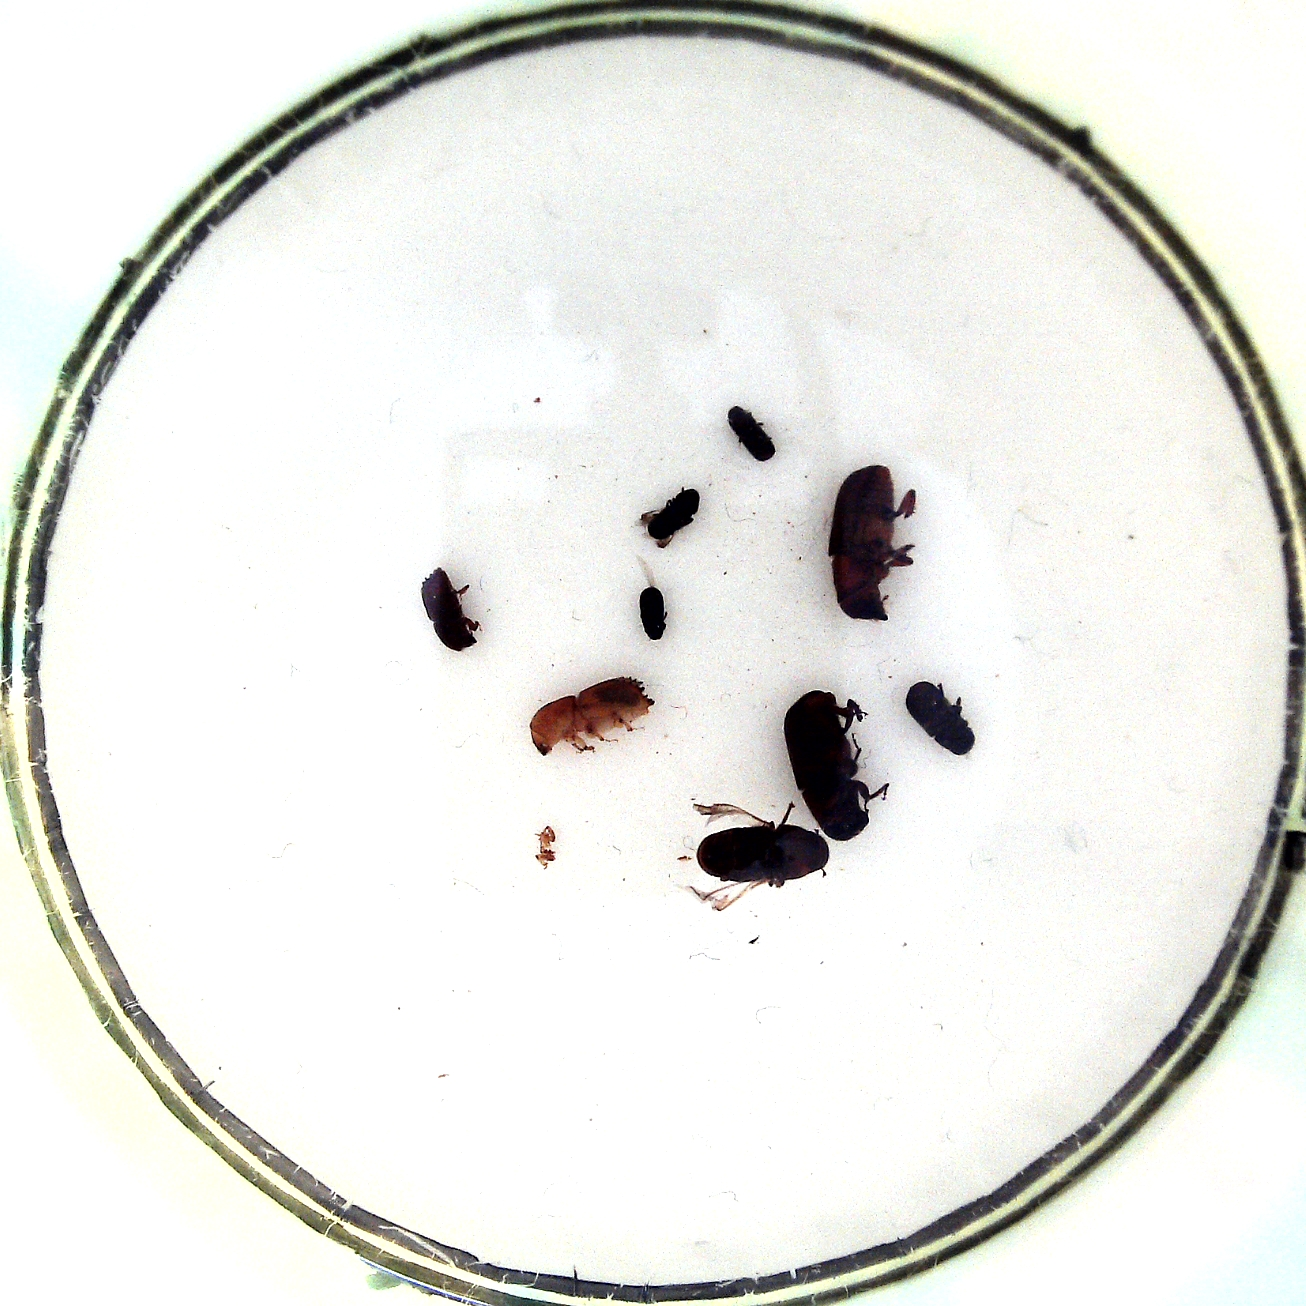Boerner: (527, 673, 669, 761)
Leconte: (681, 791, 837, 913), (776, 684, 893, 843), (826, 460, 927, 628)
Linnaeus: (416, 560, 483, 653)
armandi: (903, 673, 979, 759)
coleoptera: (629, 481, 706, 553), (722, 392, 780, 466), (631, 555, 673, 645)
